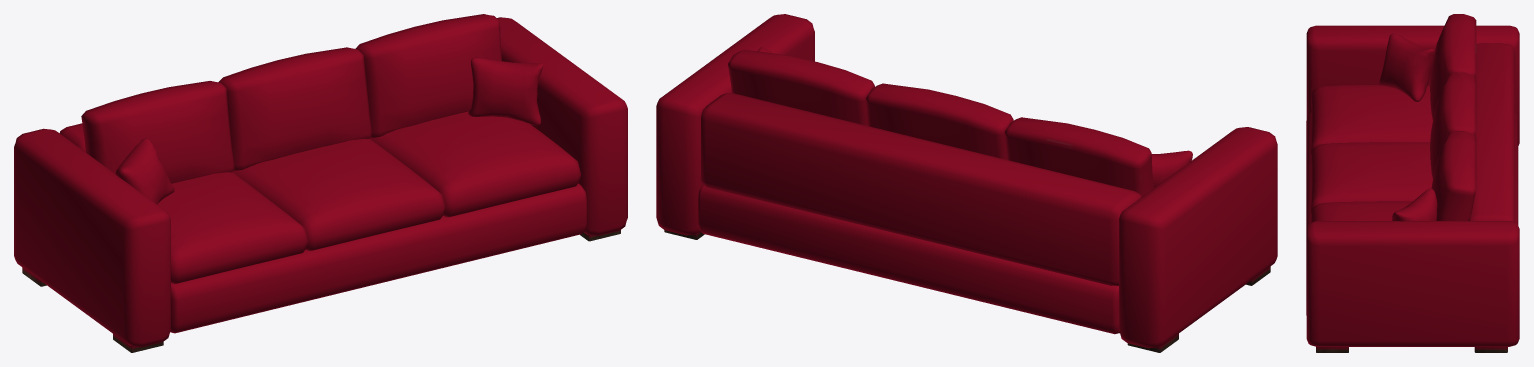
File: sofa - 88001b.glb
3 views of the same model, side by side, from view 1: azimuth 30°, elevation 25°; view 2: azimuth 150°, elevation 25°; view 3: azimuth 270°, elevation 25° (orthographic). The views are drawn at different scales.
Visible parts, largest first — view 1: node_id7; view 2: node_id7; view 3: node_id7.
Part boxes in pixels (x1,y1,x2,y2): node_id7: (14,14,627,352); node_id7: (656,14,1277,352); node_id7: (1306,14,1519,352).
Bounding box in the file's own units: 0.512 × 0.1688 × 0.2147.
Materials: 1 (1 with a texture image).
